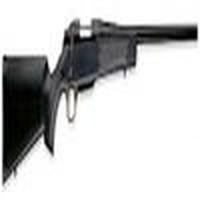gun: (2, 18, 199, 177)
